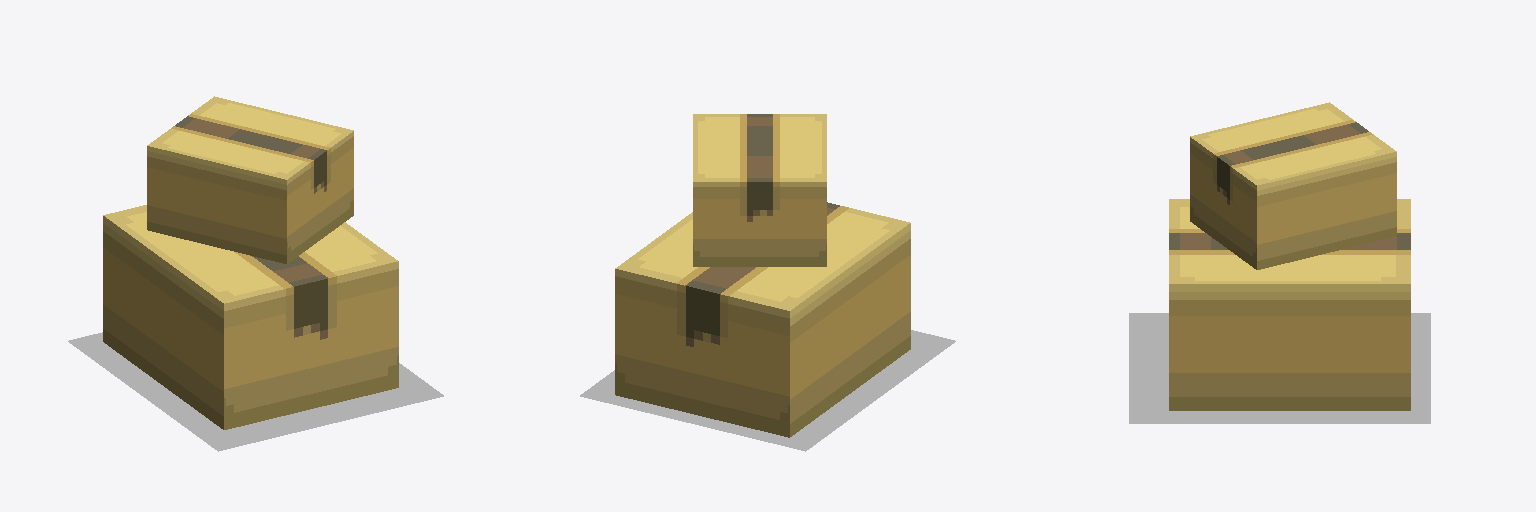
3 views of the same model, side by side, from view 1: azimuth 30°, elevation 25°; view 2: azimuth 150°, elevation 25°; view 3: azimuth 270°, elevation 25° (orthographic).
Parts seen in each view (by area): view 1: polygon0, polygon2, polygon1; view 2: polygon0, polygon2, polygon1; view 3: polygon0, polygon2, polygon1.
Part boxes in pixels (left/top/right/bottom): polygon0: left=103, top=205, right=398, bottom=429; polygon2: left=147, top=96, right=353, bottom=263; polygon1: left=68, top=332, right=443, bottom=451; polygon0: left=615, top=202, right=910, bottom=437; polygon2: left=693, top=114, right=826, bottom=266; polygon1: left=580, top=330, right=955, bottom=451; polygon0: left=1169, top=199, right=1410, bottom=410; polygon2: left=1190, top=102, right=1396, bottom=269; polygon1: left=1129, top=313, right=1430, bottom=423.
Size of the model in its own units: 6.5 by 6.16 by 7.5.
2 materials, 1 textured.